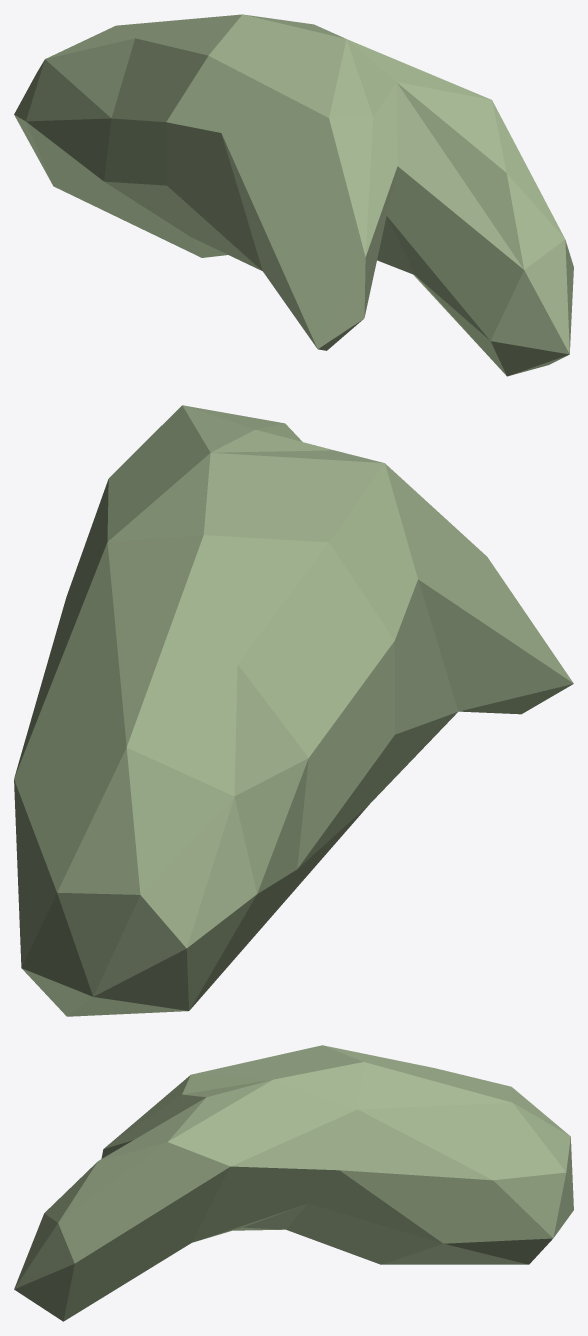
Rendered from EA_Swamp_Moss_01c.glb.
3 views of the same model, one above another, from view 1: azimuth 30°, elevation 25°; view 2: azimuth 150°, elevation 25°; view 3: azimuth 270°, elevation 25° (orthographic). The views are drawn at different scales.
Parts seen in each view (by area): view 1: EA_Swamp_Moss_01c; view 2: EA_Swamp_Moss_01c; view 3: EA_Swamp_Moss_01c.
Part boxes in pixels (bbox=[...]): EA_Swamp_Moss_01c: bbox=[14, 14, 573, 376]; EA_Swamp_Moss_01c: bbox=[14, 405, 573, 1016]; EA_Swamp_Moss_01c: bbox=[14, 1045, 573, 1321].
Bounding box in the file's own units: 1.07 × 0.9117 × 2.19.
Materials: 1 (1 with a texture image).
